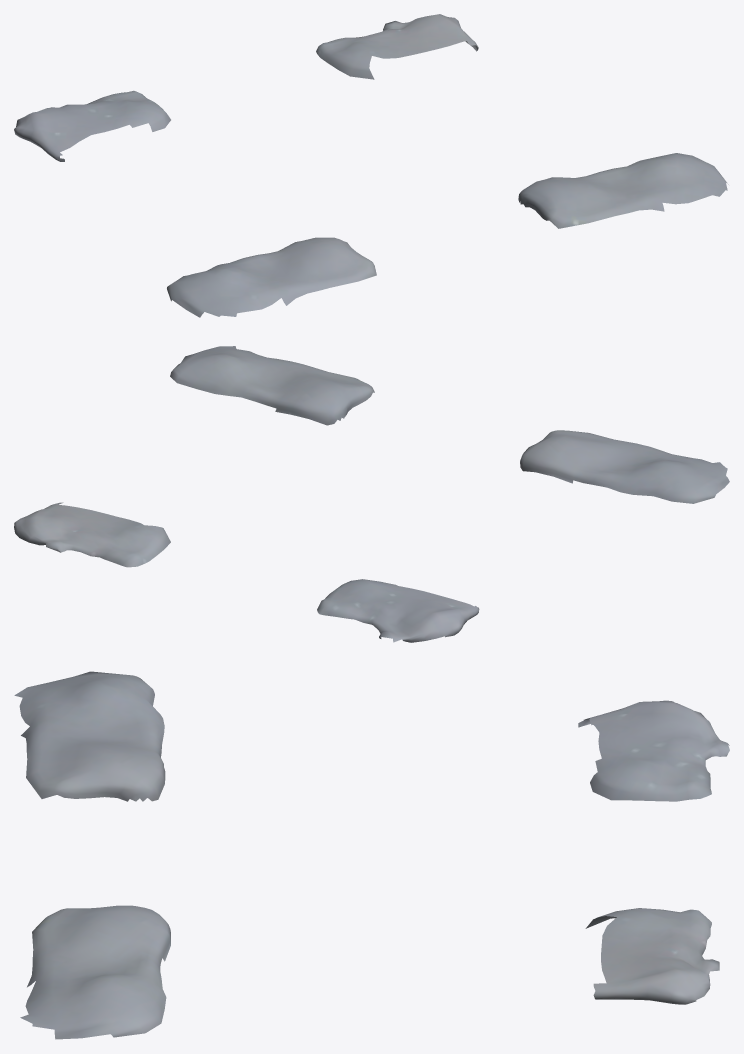
The model's file is pref_sm_beach_winter_top_topsnow03_lv3.fbx.
3 views of the same model, one above another, from view 1: azimuth 30°, elevation 25°; view 2: azimuth 150°, elevation 25°; view 3: azimuth 270°, elevation 25° (orthographic). The views are drawn at different scales.
Visible parts, largest first — view 1: pref_sm_beach_winter_top_topsnow03_lv3; view 2: pref_sm_beach_winter_top_topsnow03_lv3; view 3: pref_sm_beach_winter_top_topsnow03_lv3.
Part boxes in pixels (<box>): pref_sm_beach_winter_top_topsnow03_lv3: <box>14,14,728,317</box>; pref_sm_beach_winter_top_topsnow03_lv3: <box>14,346,729,642</box>; pref_sm_beach_winter_top_topsnow03_lv3: <box>14,671,729,1039</box>.
Bounding box in the file's own units: 17.24 × 0.7187 × 14.53.
